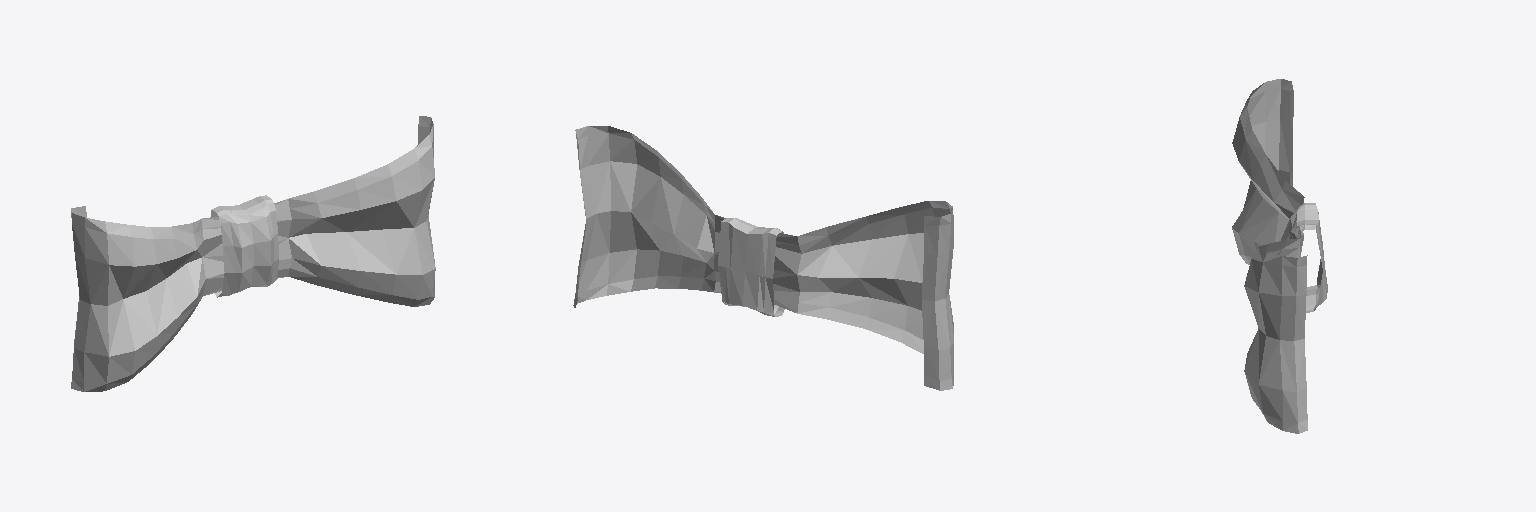
File: bowtie.obj
3 renders of one model, left to right at view 1: azimuth 30°, elevation 25°; view 2: azimuth 150°, elevation 25°; view 3: azimuth 270°, elevation 25°, orthographic.
Parts seen in each view (by area): view 1: Mesh; view 2: Mesh; view 3: Mesh.
Part boxes in pixels (x1,y1,x2,y2): Mesh: (71,116,435,391); Mesh: (573,126,953,390); Mesh: (1232,79,1327,433).
Size of the model in its own units: 15.61 by 7.07 by 3.51.